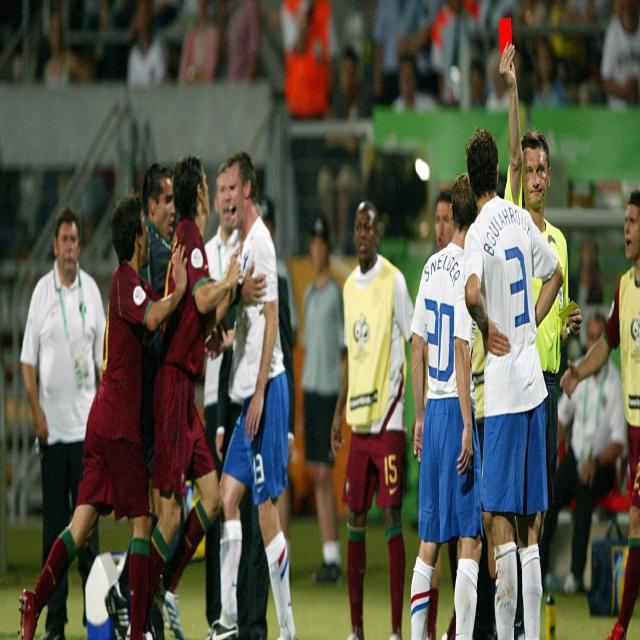red-card: (496, 10, 521, 94)
